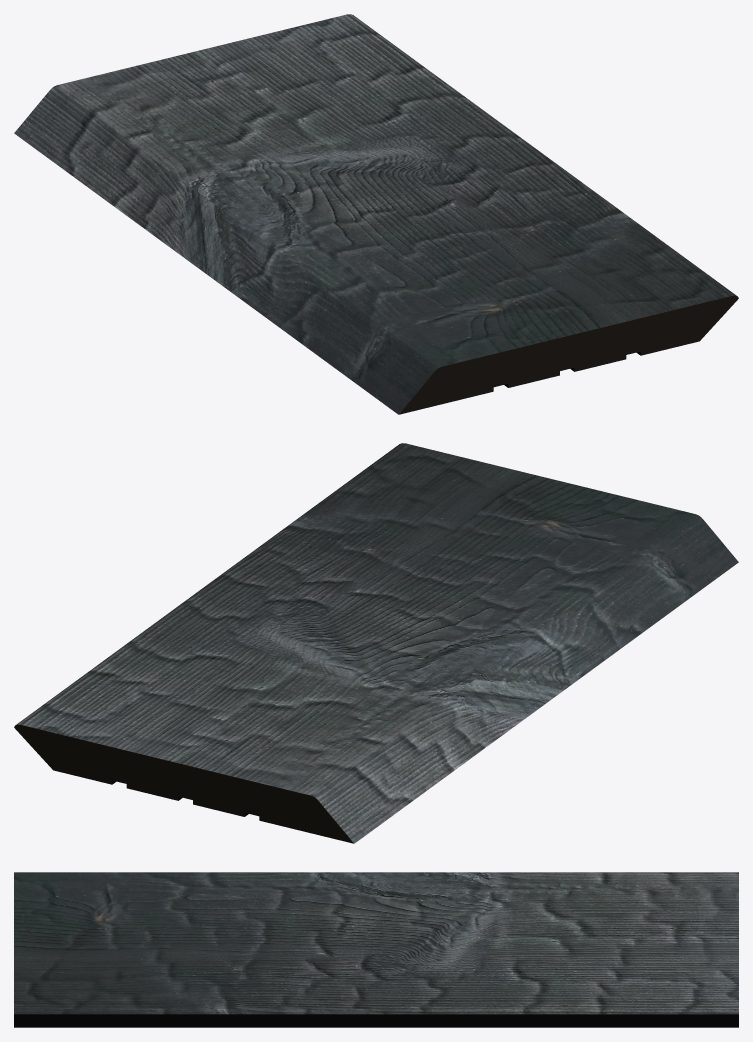
File: thermo-facade-rhombus-black.glb
3 renders of one model, top to bottom at view 1: azimuth 30°, elevation 25°; view 2: azimuth 150°, elevation 25°; view 3: azimuth 270°, elevation 25°, orthographic. The views are drawn at different scales.
Parts seen in each view (by area): view 1: Rombas; view 2: Rombas; view 3: Rombas.
Boxes of the visible parts, x1=… form: Rombas: x1=14, y1=14, x2=738, y2=414; Rombas: x1=14, y1=443, x2=738, y2=843; Rombas: x1=14, y1=872, x2=738, y2=1027.
Bounding box in the file's own units: 0.0942 × 0.00994 × 0.1843.
Materials: 3 (1 with a texture image).
